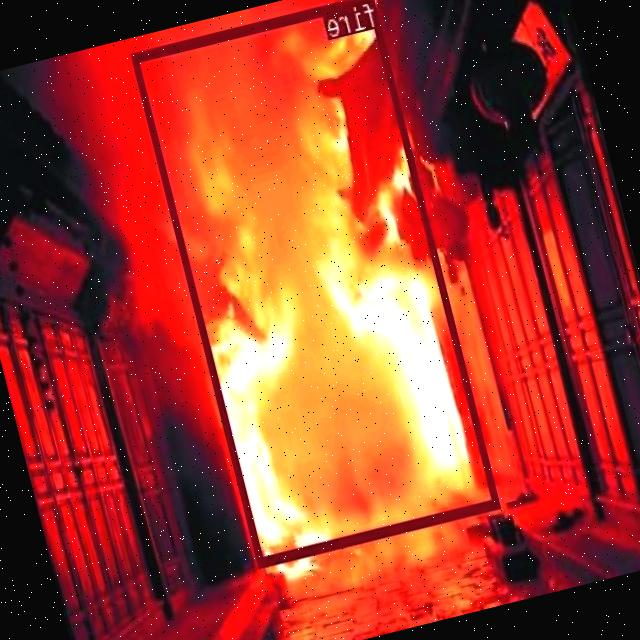fire: (132, 0, 502, 565)
